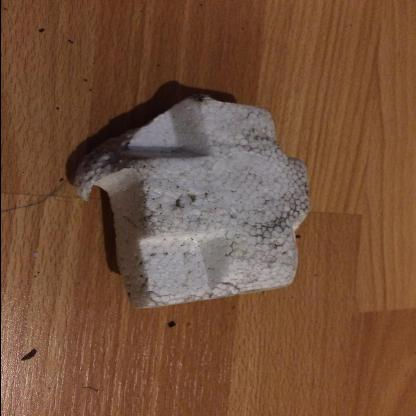kopuk: (65, 93, 313, 310)
